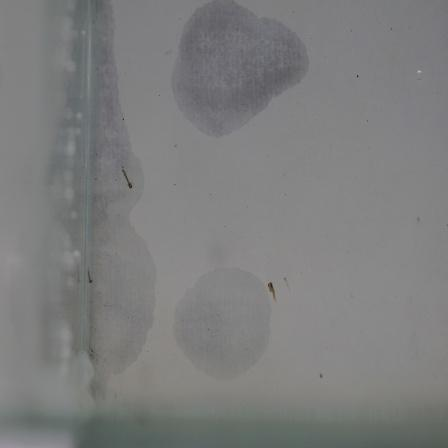Jentik-Nyamuk: (117, 163, 141, 193), (83, 259, 101, 289), (263, 278, 282, 303)
